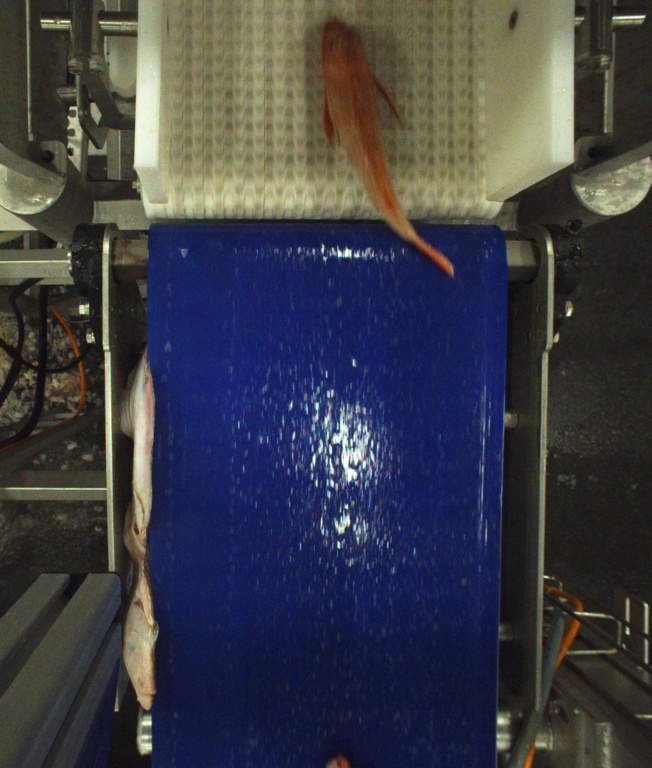GUU: (318, 16, 457, 279)
